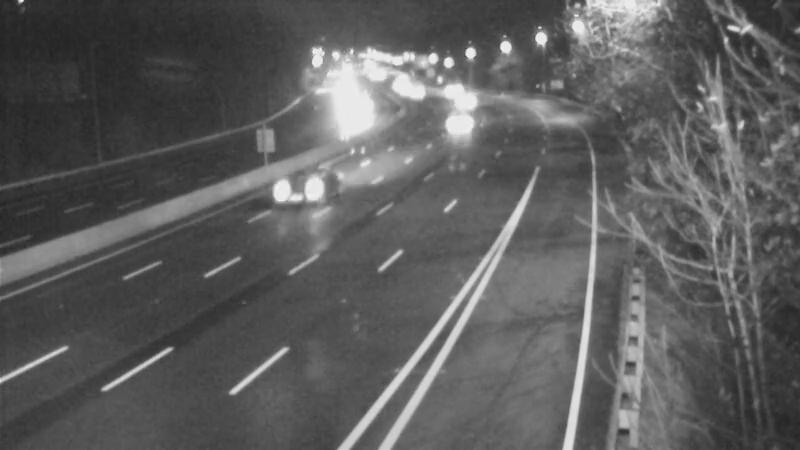vehicle: (257, 145, 337, 225), (388, 66, 438, 116), (430, 67, 480, 117), (441, 80, 491, 130), (435, 103, 485, 153), (325, 84, 375, 134)
